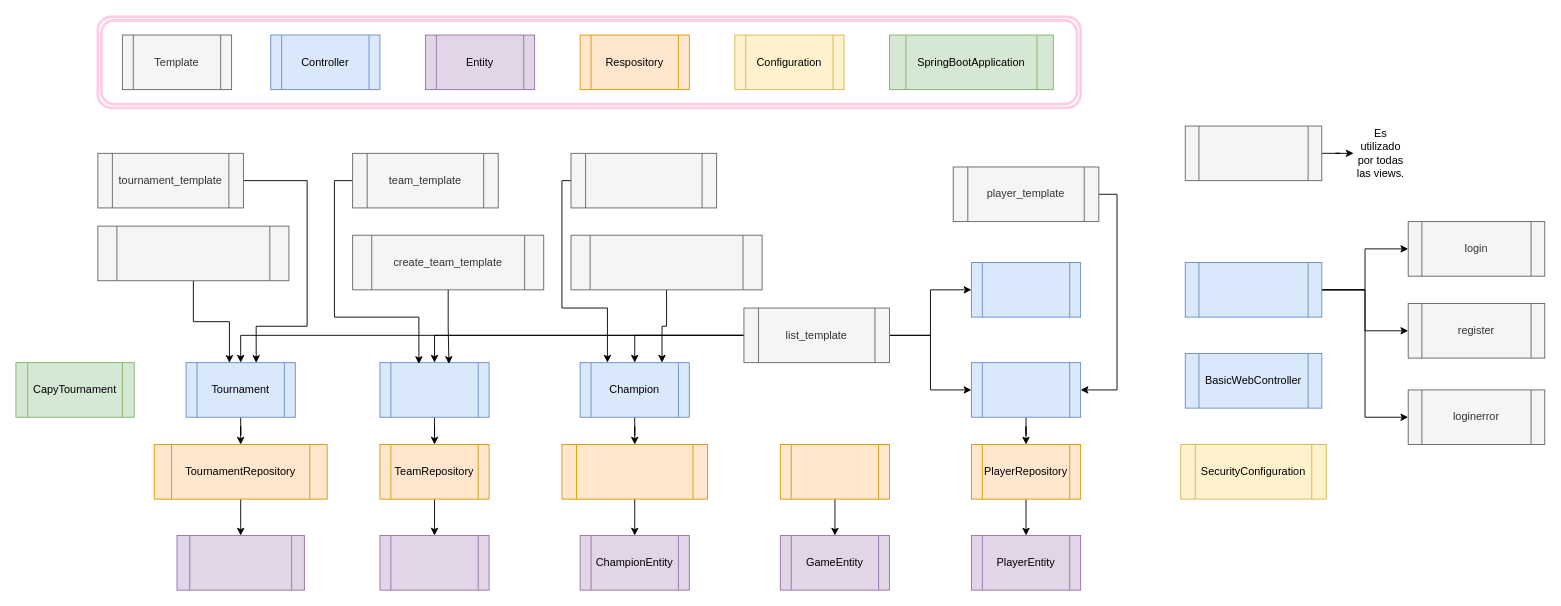
Some shapes in this 1561 by 606 pixel diagram are drawn without their labels. The shapes that lost their labels are listed below. From the top down, each one's centre as x and y in pixels, then its label:
the point at 1253,153: header
the point at 643,180: champion_template
the point at 193,253: create_tournament_template
the point at 666,262: create_champion_template
the point at 1026,289: Home
the point at 1253,289: UserWebController
the point at 434,389: Team
the point at 1026,389: Player
the point at 634,471: ChampionRepository
the point at 834,471: GameRepository
the point at 240,562: TournamentEntity
the point at 434,562: TeamEntity
